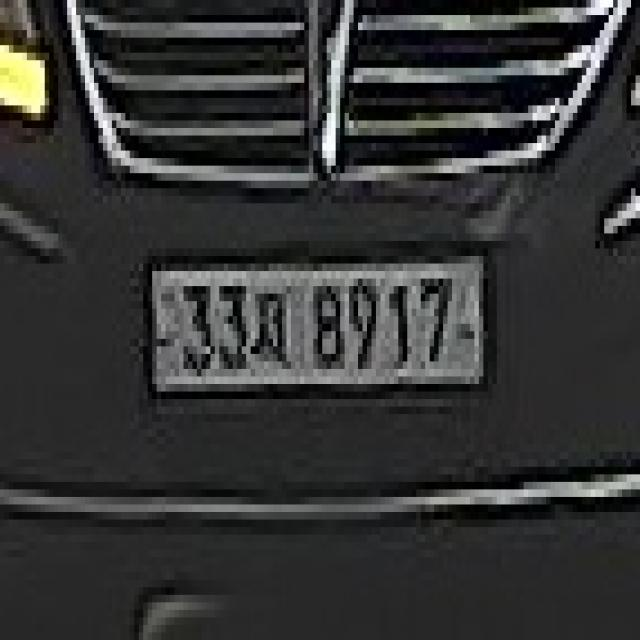1: (385, 278, 412, 376)
3: (214, 271, 250, 377), (179, 278, 215, 376)
7: (416, 271, 457, 369)
8: (308, 271, 344, 377)
9: (344, 278, 380, 376)
jeo: (251, 286, 291, 369)
license_plate: (148, 249, 488, 399)
